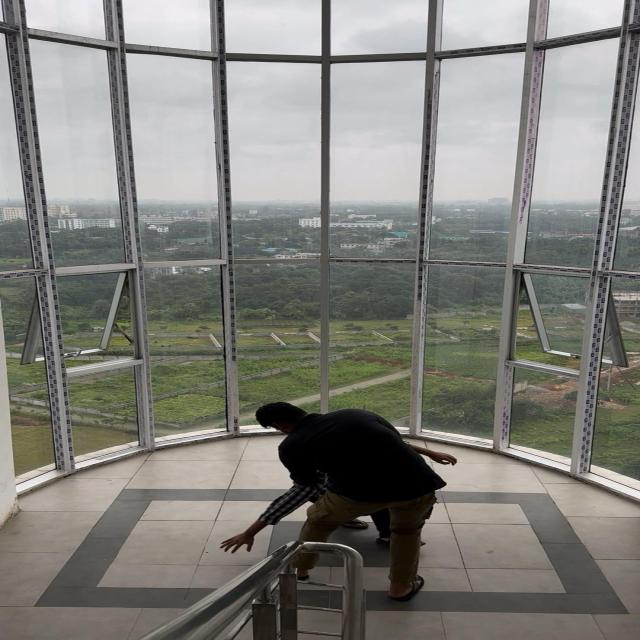fight: (160, 372, 505, 618)
